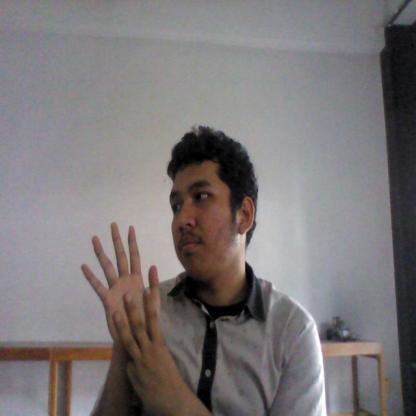M: (78, 219, 172, 400)
